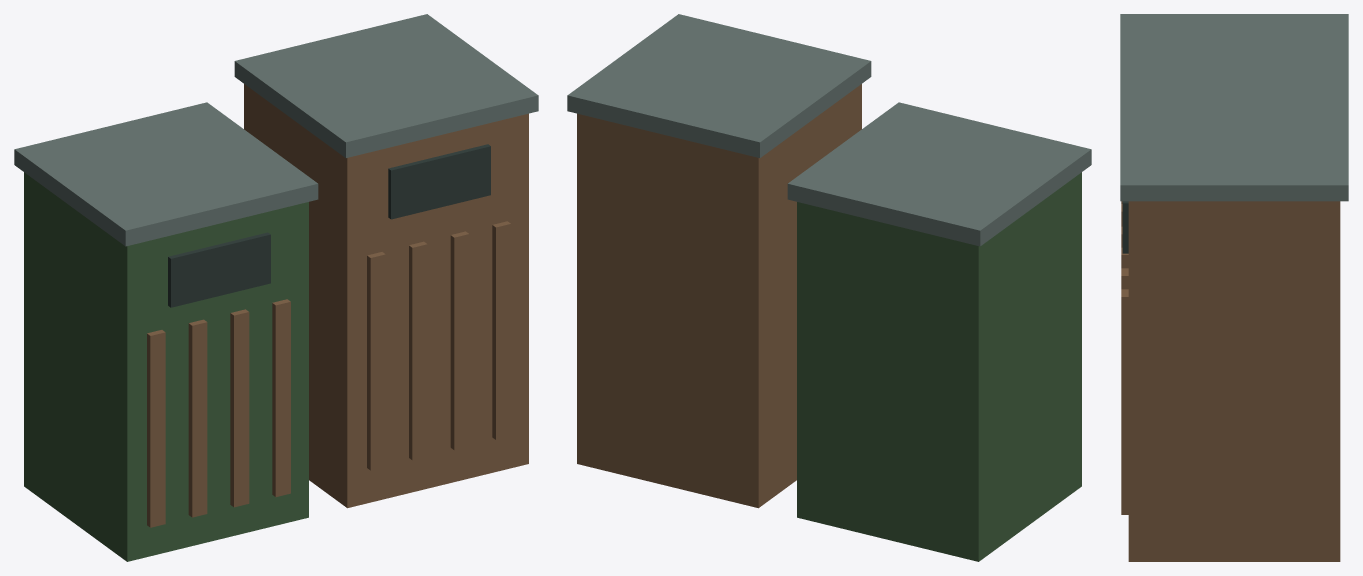
The picture shows the model from 3 angles, left to right: view 1: azimuth 30°, elevation 25°; view 2: azimuth 150°, elevation 25°; view 3: azimuth 270°, elevation 25°; orthographic projection. The views are drawn at different scales.
Parts seen in each view (by area): view 1: climb-bin-6-0, climb-bin-6-2, 쓰레기통 07, climb-bin-6-1, climb-bin-6-3; view 2: climb-bin-6-0, climb-bin-6-2, climb-bin-6-1, climb-bin-6-3; view 3: climb-bin-6-2, climb-bin-6-3, climb-bin-6-1, 쓰레기통 07.
Part boxes in pixels (x1=…): climb-bin-6-0: x1=24, y1=172, x2=308, y2=561; climb-bin-6-2: x1=244, y1=84, x2=528, y2=508; 쓰레기통 07: x1=147, y1=144, x2=510, y2=527; climb-bin-6-1: x1=14, y1=102, x2=318, y2=246; climb-bin-6-3: x1=234, y1=14, x2=538, y2=157; climb-bin-6-0: x1=797, y1=172, x2=1081, y2=561; climb-bin-6-2: x1=577, y1=84, x2=861, y2=508; climb-bin-6-1: x1=787, y1=102, x2=1091, y2=246; climb-bin-6-3: x1=567, y1=14, x2=871, y2=157; climb-bin-6-2: x1=1128, y1=201, x2=1340, y2=561; climb-bin-6-3: x1=1120, y1=88, x2=1348, y2=201; climb-bin-6-1: x1=1120, y1=14, x2=1348, y2=88; 쓰레기통 07: x1=1121, y1=201, x2=1128, y2=514.
Bounding box in the file's own units: 1.5 × 1.28 × 0.7.
